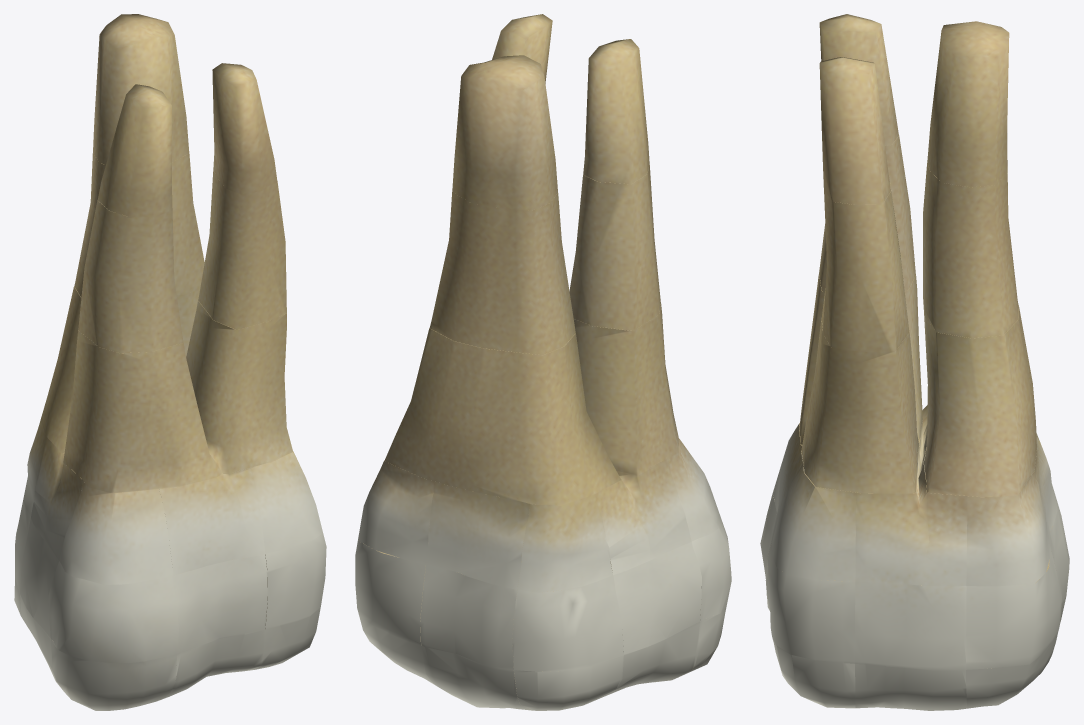
File: Right_Upper_Second_Molar.glb
3 renders of one model, left to right at view 1: azimuth 30°, elevation 25°; view 2: azimuth 150°, elevation 25°; view 3: azimuth 270°, elevation 25°, orthographic. The views are drawn at different scales.
Visible parts, largest first — view 1: Human_Teeth_Upper_Second_Molar_Geo.002; view 2: Human_Teeth_Upper_Second_Molar_Geo.002; view 3: Human_Teeth_Upper_Second_Molar_Geo.002.
Part boxes in pixels (x1,y1,x2,y2): Human_Teeth_Upper_Second_Molar_Geo.002: (14,14,326,710); Human_Teeth_Upper_Second_Molar_Geo.002: (355,14,731,710); Human_Teeth_Upper_Second_Molar_Geo.002: (760,14,1069,710).
Size of the model in its own units: 1.46 by 3.19 by 1.36.
Materials: 30 (30 with a texture image).
